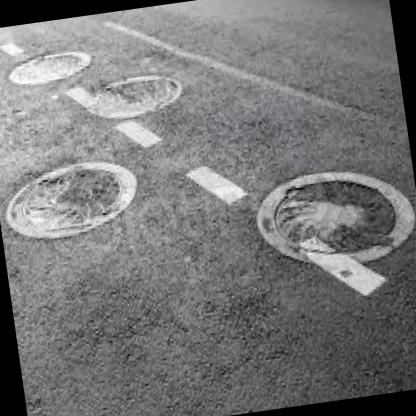manholes: (248, 149, 416, 282), (0, 148, 145, 257), (80, 65, 196, 134), (0, 34, 100, 94)
